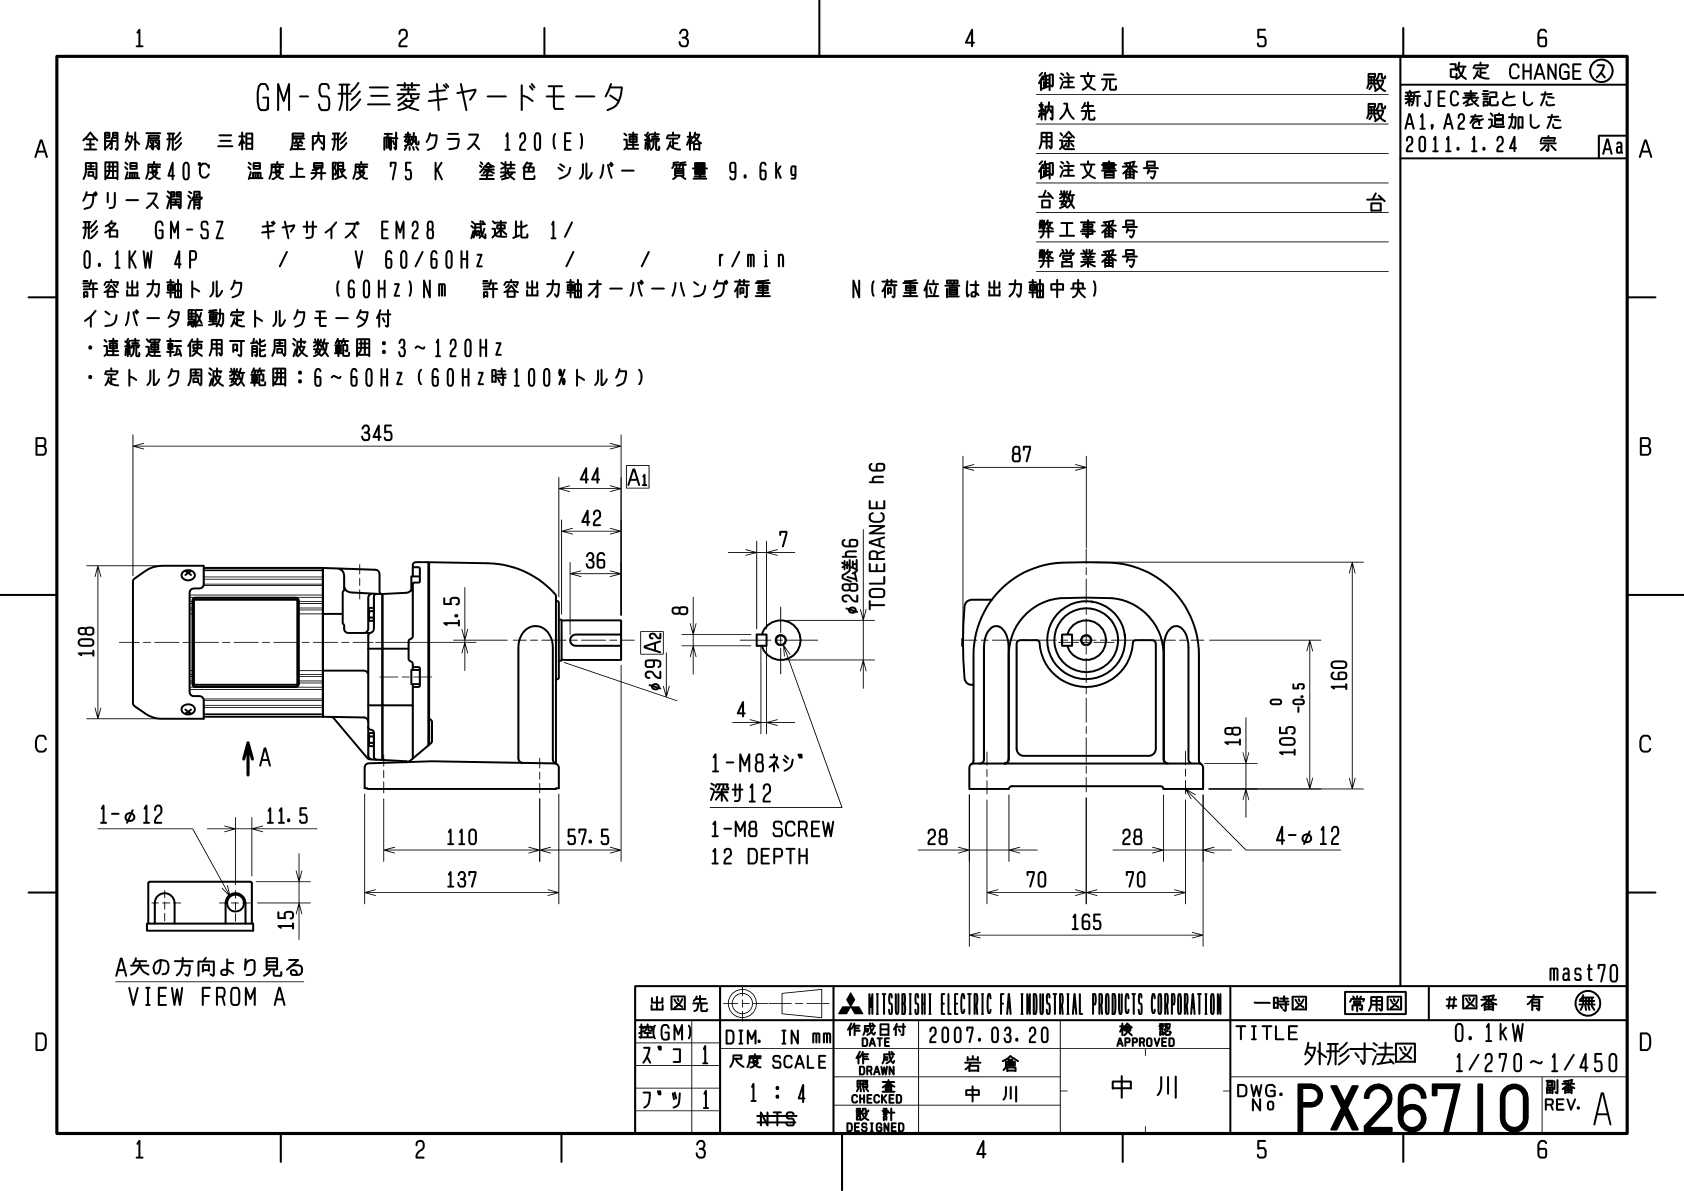GM_S_インバタ屋外＿三相_脚: (61, 403, 1377, 969)
